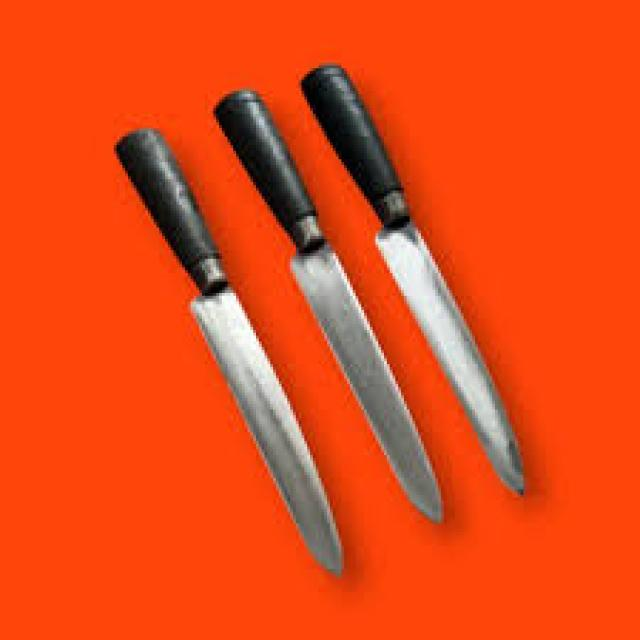Knife: (114, 128, 338, 575), (213, 91, 441, 521), (302, 65, 523, 492)
